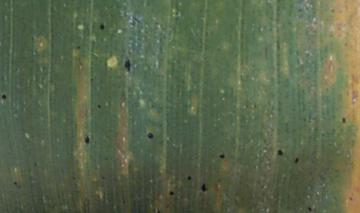tarspot: (121, 53, 133, 74), (143, 129, 157, 142), (274, 146, 286, 158), (338, 115, 351, 126), (199, 182, 210, 194), (1, 92, 11, 103), (83, 134, 92, 146), (97, 21, 108, 30), (218, 150, 227, 161), (305, 205, 316, 213), (292, 156, 301, 165), (167, 190, 176, 198), (93, 102, 103, 109), (186, 173, 193, 182), (75, 44, 83, 51), (13, 180, 20, 185)
